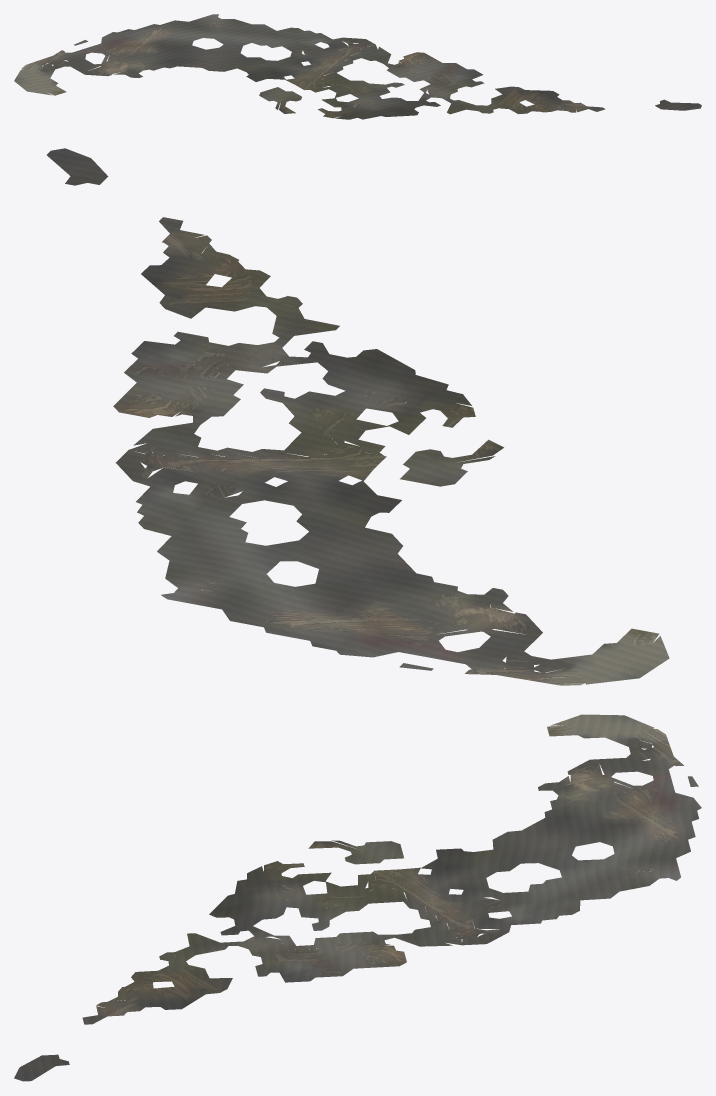
The picture shows the model from 3 angles, top to bottom: view 1: azimuth 30°, elevation 25°; view 2: azimuth 150°, elevation 25°; view 3: azimuth 270°, elevation 25°; orthographic projection. The views are drawn at different scales.
Parts seen in each view (by area): view 1: Compacted gravel, Graded soil; view 2: Compacted gravel, Graded soil; view 3: Compacted gravel, Graded soil.
Boxes of the visible parts, x1=… form: Compacted gravel: x1=14, y1=14, x2=701, y2=119; Graded soil: x1=22, y1=23, x2=586, y2=118; Compacted gravel: x1=47, y1=148, x2=669, y2=684; Graded soil: x1=123, y1=233, x2=659, y2=685; Compacted gravel: x1=14, y1=714, x2=701, y2=1081; Graded soil: x1=96, y1=725, x2=683, y2=1016.
Size of the model in its own units: 206 by 0.223 by 163.
2 materials, 2 textured.
